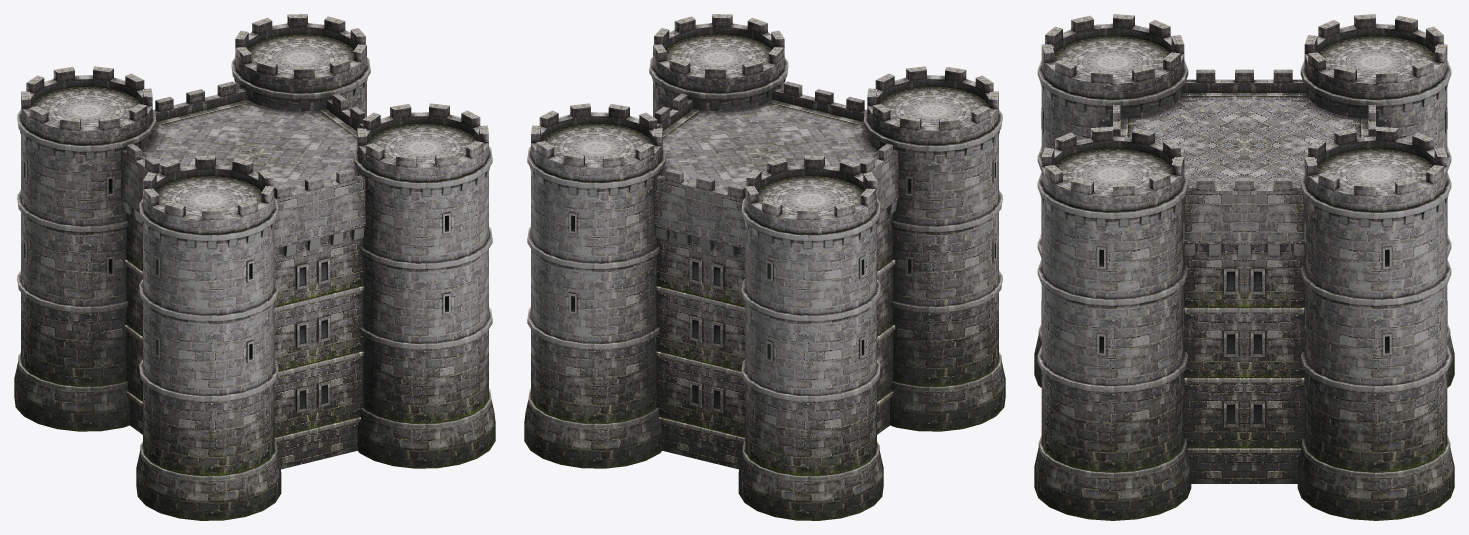
File: CastleBuilding03.FBX
3 views of the same model, side by side, from view 1: azimuth 30°, elevation 25°; view 2: azimuth 150°, elevation 25°; view 3: azimuth 270°, elevation 25° (orthographic). The views are drawn at different scales.
Visible parts, largest first — view 1: CastleBuilding03, CastleBuilding04; view 2: CastleBuilding03, CastleBuilding04; view 3: CastleBuilding03, CastleBuilding04.
Boxes of the visible parts, x1,y1,x2,y2 form: CastleBuilding03: [14, 14, 495, 520]; CastleBuilding04: [121, 81, 365, 469]; CastleBuilding03: [524, 14, 1005, 520]; CastleBuilding04: [654, 81, 898, 469]; CastleBuilding03: [1034, 14, 1454, 520]; CastleBuilding04: [1113, 69, 1375, 483].
Size of the model in its own units: 5965 by 5140 by 5915.
